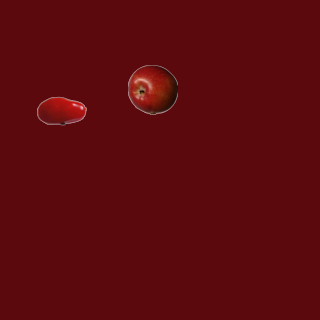Apple Braeburn: (127, 64, 177, 114)
Tomato 2: (36, 85, 86, 135)
